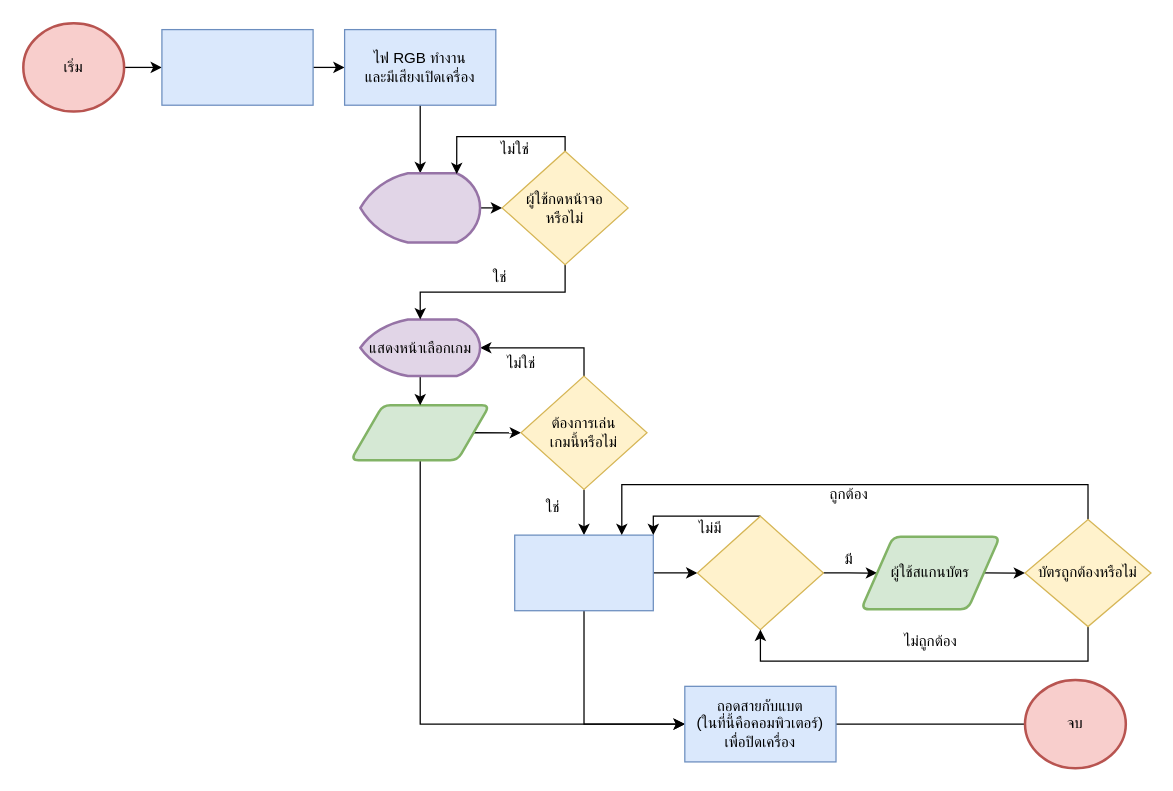
The diagram is 1173 pixels wide and 791 high, and some of its shapes have lost their labels. The box of each missing label's shape, as (x1, y1, x2, y2) in pixels:
ต่อสายกับแบต (ในที่นี้คือคอมพิวเตอร์) เพื่อเปิดเครื่อง: (161, 28, 313, 105)
ผู้ใช้มีบัตรสมาชิกหรือไม่: (696, 515, 823, 630)
ผู้ใช้เลือกเกม: (349, 403, 490, 461)
ผู้ใช้เล่นเกมที่เลือก: (513, 534, 653, 611)
แสดงโลโก้: (358, 171, 481, 243)
